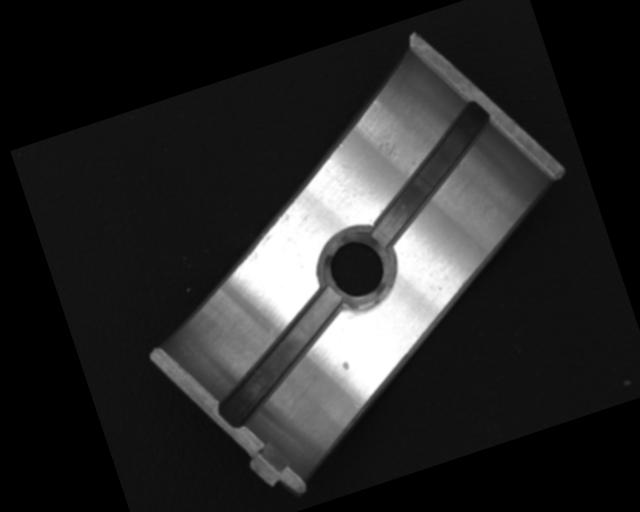bruise: (340, 360, 352, 373)
gap: (343, 98, 518, 249), (192, 283, 367, 430)
hole: (316, 222, 401, 313)
